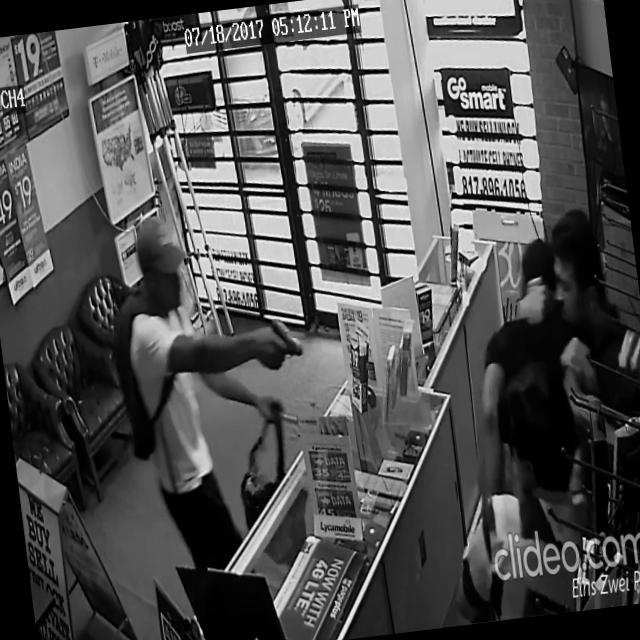gun: (265, 309, 308, 367)
person: (449, 227, 640, 621), (427, 348, 640, 625), (501, 198, 640, 614)
person with a gun: (95, 198, 333, 582)
